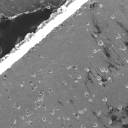corrosion: (119, 44, 128, 51), (110, 115, 118, 122), (30, 71, 37, 78), (97, 40, 104, 47), (40, 115, 47, 122), (95, 110, 102, 117), (78, 108, 86, 114), (102, 96, 108, 103), (110, 13, 116, 20), (35, 102, 41, 109), (13, 104, 21, 109), (66, 64, 72, 70), (84, 66, 90, 72), (47, 88, 53, 94), (12, 118, 17, 125), (88, 97, 93, 103), (96, 75, 101, 81), (19, 82, 24, 88), (76, 75, 82, 80), (117, 105, 122, 110), (124, 83, 128, 89), (99, 3, 103, 9), (31, 87, 35, 92), (7, 96, 11, 100), (86, 22, 90, 26)
